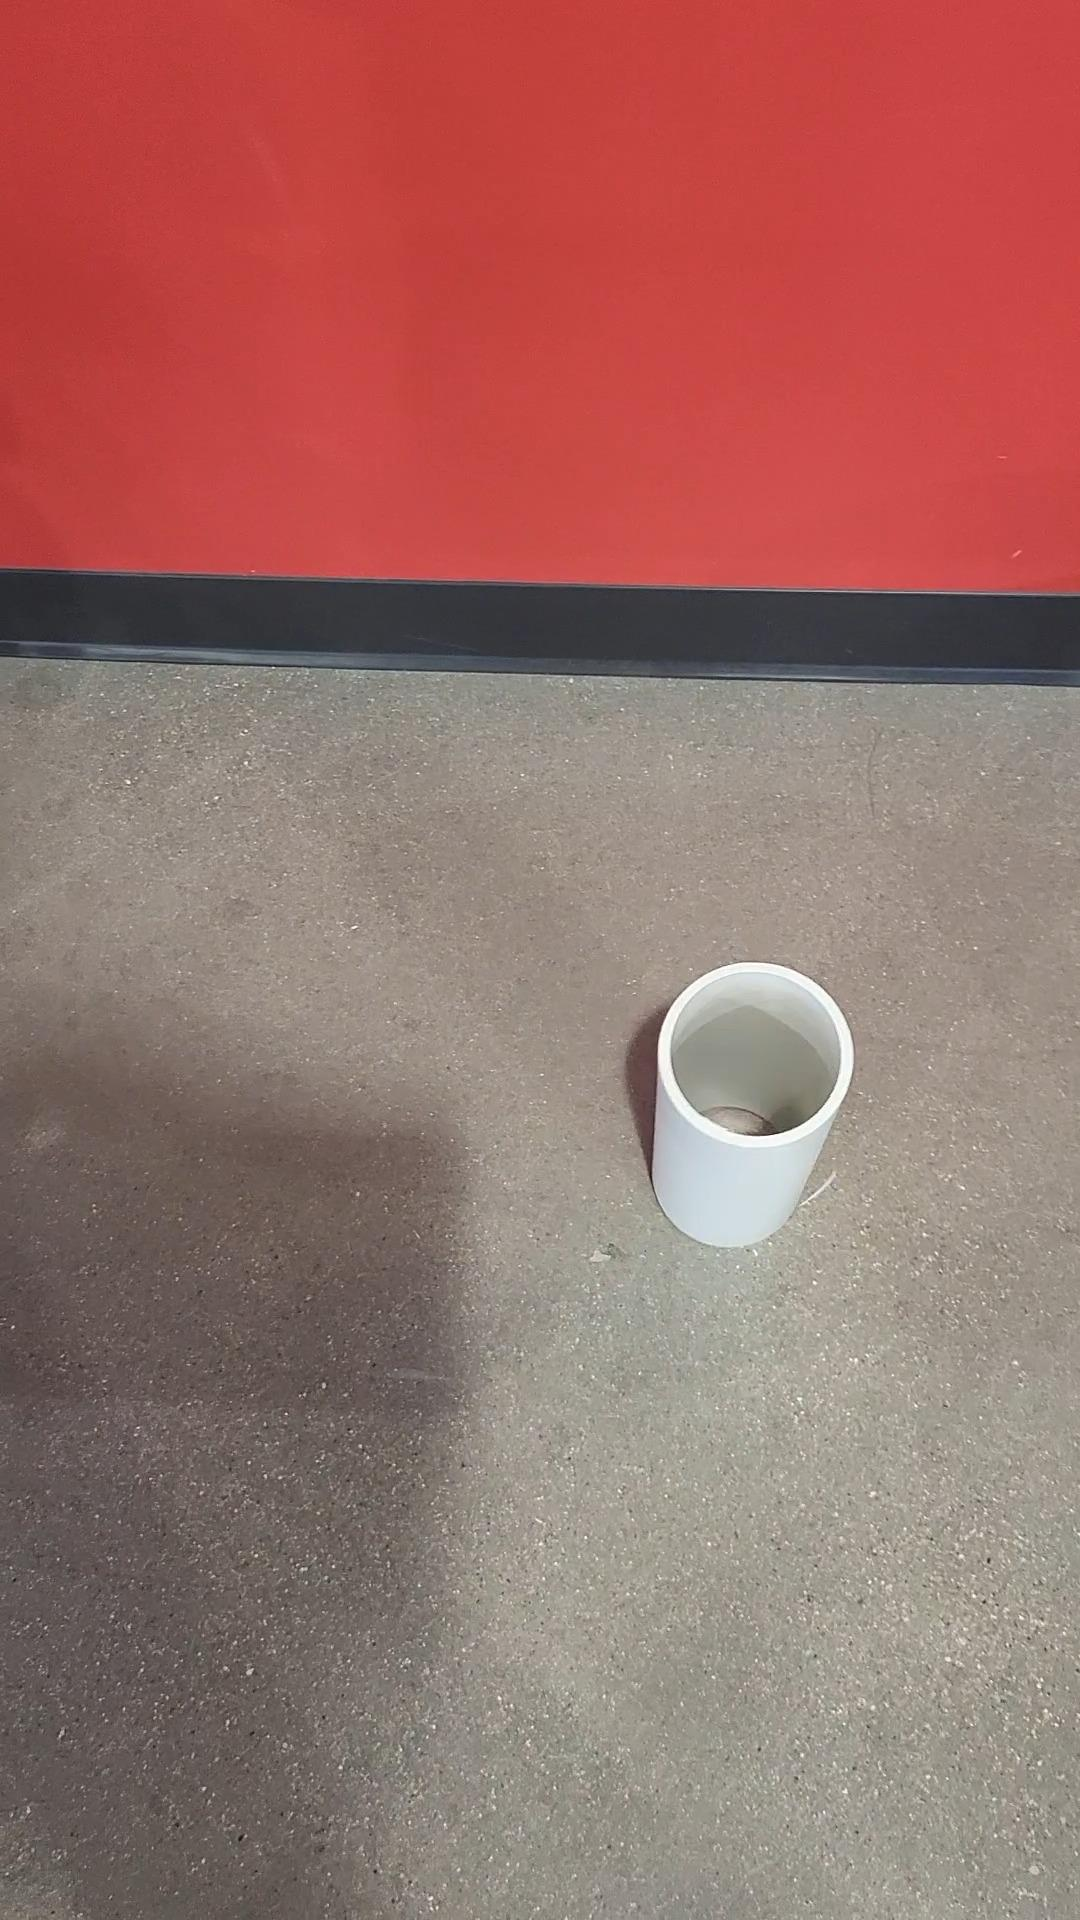coral: (644, 959, 855, 1251)
